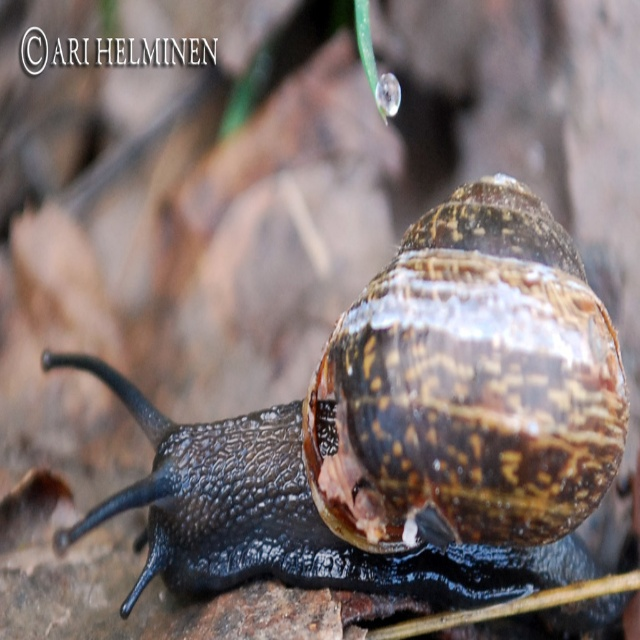Snail: (37, 165, 640, 635)
